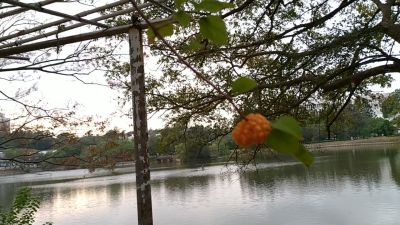eggs: (232, 112, 272, 149)
